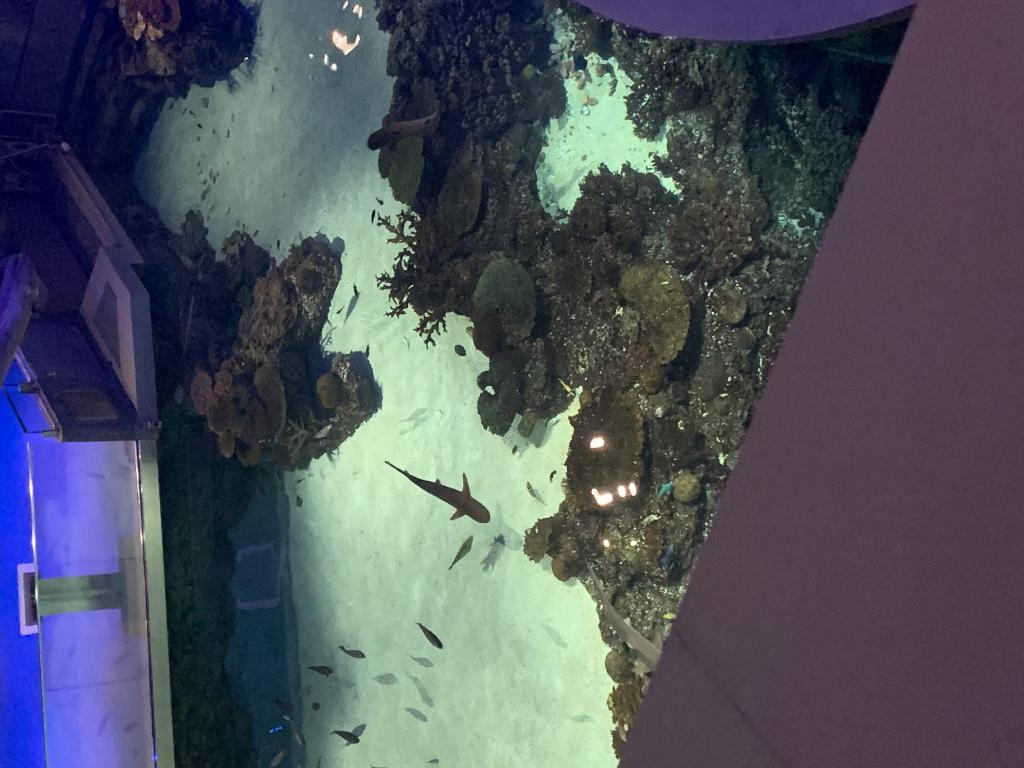fish: (448, 532, 478, 570), (416, 618, 444, 650), (330, 726, 364, 748), (304, 660, 336, 680), (336, 644, 366, 660)
shark: (383, 458, 491, 526)
